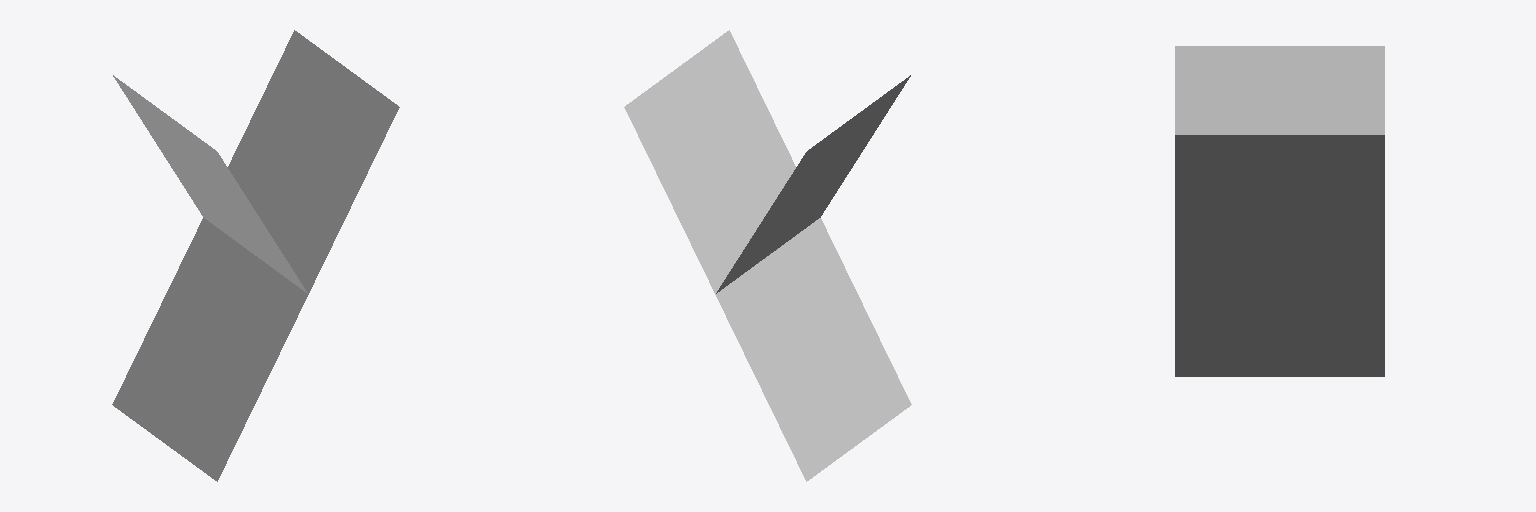
The model's file is y-detached.obj.
3 renders of one model, left to right at view 1: azimuth 30°, elevation 25°; view 2: azimuth 150°, elevation 25°; view 3: azimuth 270°, elevation 25°, orthographic.
Parts seen in each view (by area): view 1: pPlane2, pPlane1; view 2: pPlane2, pPlane1; view 3: pPlane2, pPlane1.
Part boxes in pixels (x1,y1,x2,y2): pPlane2: (112,30,399,481); pPlane1: (113,75,307,293); pPlane2: (624,30,911,481); pPlane1: (716,75,910,293); pPlane2: (1175,135,1384,376); pPlane1: (1175,46,1384,134).
Bounding box in the file's own units: 5 × 8.66 × 5.